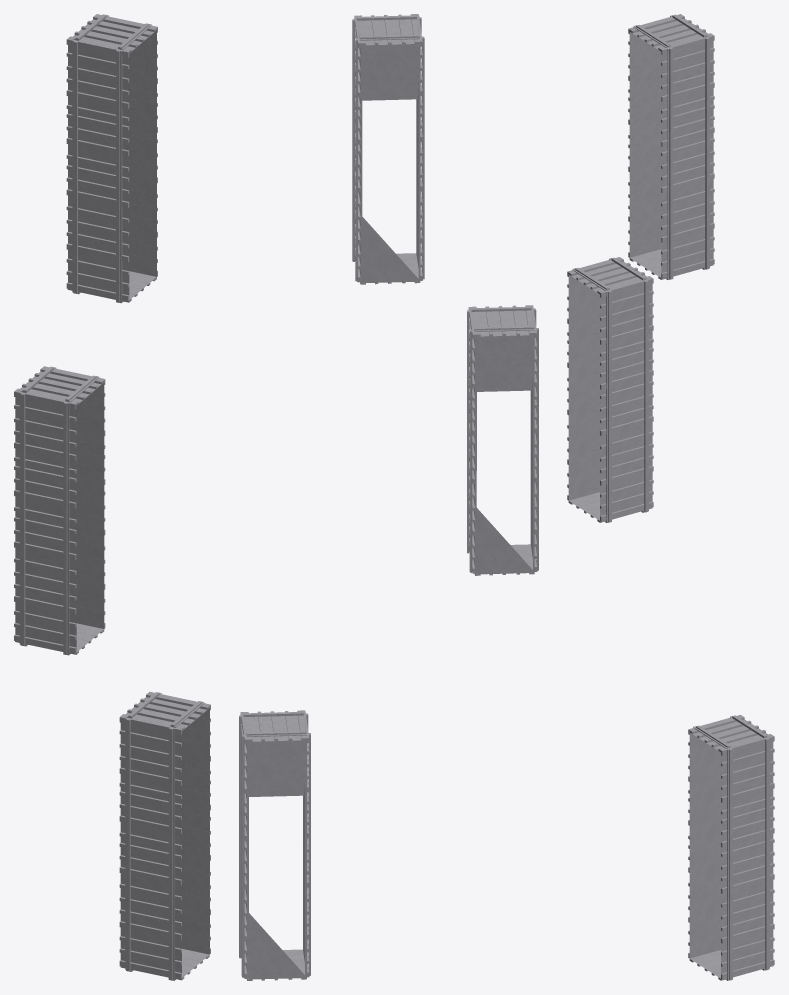
File: elevator-backside-withtexture.fbx
3 renders of one model, left to right at view 1: azimuth 30°, elevation 25°; view 2: azimuth 150°, elevation 25°; view 3: azimuth 270°, elevation 25°, orthographic. The views are drawn at different scales.
Visible parts, largest first — view 1: Cylinder.006; view 2: Cylinder.006; view 3: Cylinder.006.
Part boxes in pixels (x1,y1,x2,y2): Cylinder.006: (14, 14, 210, 980); Cylinder.006: (239, 14, 538, 980); Cylinder.006: (567, 14, 774, 980).
Bounding box in the file's own units: 626 × 2314 × 485.
Materials: 1 (1 with a texture image).
